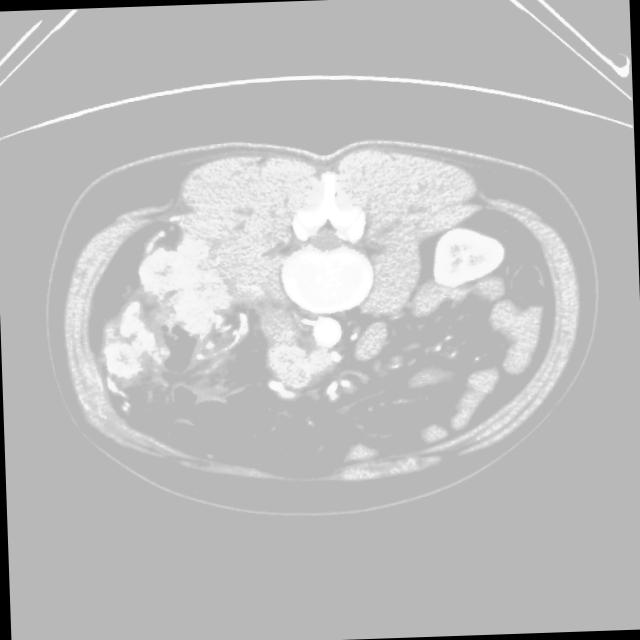TUMOR: (127, 194, 544, 443)
